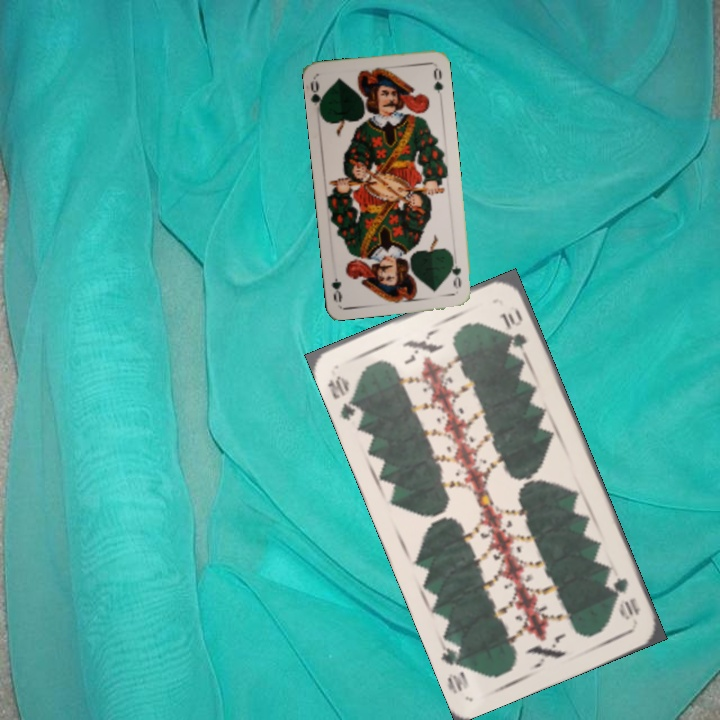G10: (324, 371, 366, 424), (608, 573, 642, 623)
GO: (306, 76, 327, 116), (446, 252, 464, 292)
